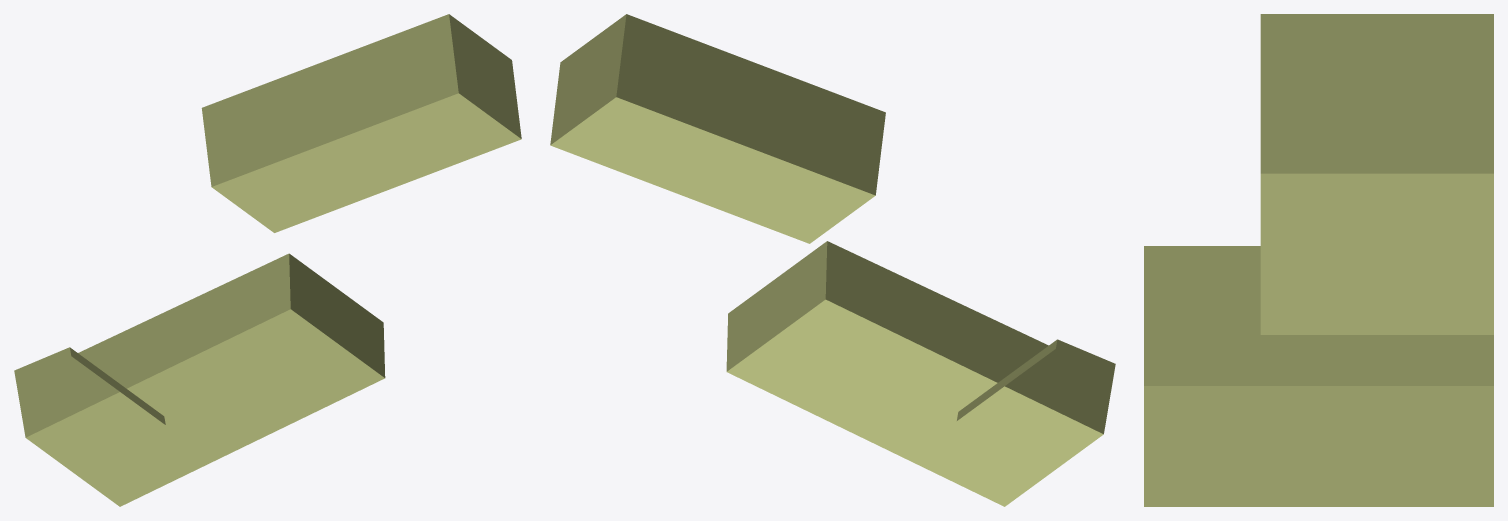
The picture shows the model from 3 angles, left to right: view 1: azimuth 30°, elevation 25°; view 2: azimuth 150°, elevation 25°; view 3: azimuth 270°, elevation 25°; orthographic projection. The views are drawn at different scales.
Visible parts, largest first — view 1: 0_1_2_0_3_3_0_3_3_1; view 2: 0_1_2_0_3_3_0_3_3_1; view 3: 0_1_2_0_3_3_0_3_3_1.
Part boxes in pixels (left/top/right/bottom): 0_1_2_0_3_3_0_3_3_1: left=14, top=14, right=521, bottom=506; 0_1_2_0_3_3_0_3_3_1: left=550, top=14, right=1115, bottom=506; 0_1_2_0_3_3_0_3_3_1: left=1144, top=14, right=1493, bottom=506.
Bounding box in the file's own units: 24.45 × 16.84 × 9.
